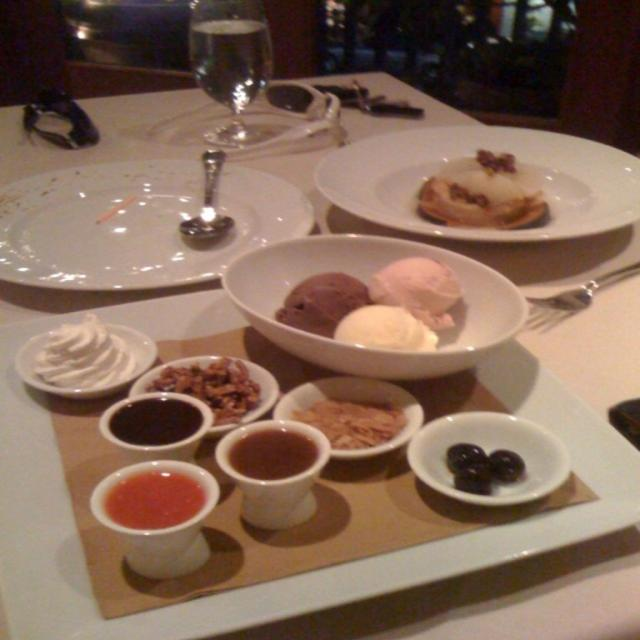non-organic waste: (194, 228, 567, 393), (0, 141, 323, 306), (298, 123, 640, 253)
